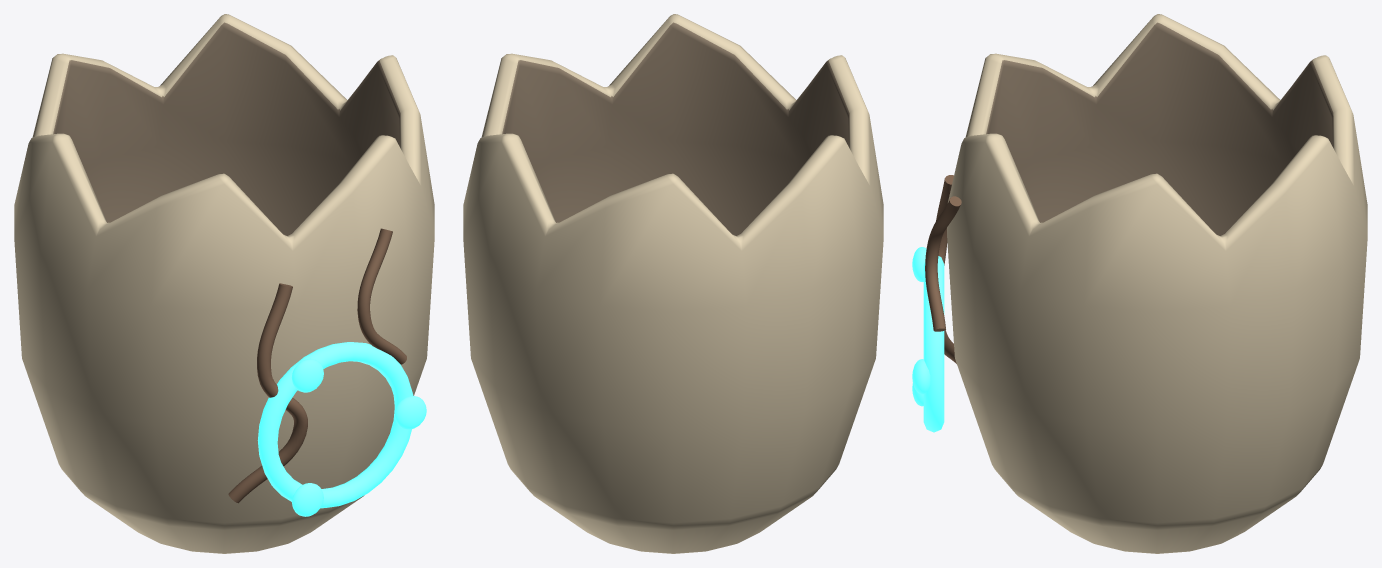
The model's file is ingredient-rune-shell.glb.
3 renders of one model, left to right at view 1: azimuth 30°, elevation 25°; view 2: azimuth 150°, elevation 25°; view 3: azimuth 270°, elevation 25°, orthographic.
Parts seen in each view (by area): view 1: Runeshell_body, Runeshell_rune_ring, Runeshell_crack_left, Runeshell_crack_right, Runeshell_rune_0, Runeshell_rune_1, Runeshell_rune_2; view 2: Runeshell_body; view 3: Runeshell_body, Runeshell_rune_ring, Runeshell_crack_right, Runeshell_crack_left.
Boxes of the visible parts, box(x1,y1,x2,y2) form: Runeshell_body: box(14, 14, 434, 553); Runeshell_rune_ring: box(257, 342, 413, 508); Runeshell_crack_left: box(228, 283, 307, 503); Runeshell_crack_right: box(357, 228, 406, 364); Runeshell_rune_0: box(394, 395, 426, 429); Runeshell_rune_1: box(291, 358, 323, 392); Runeshell_rune_2: box(292, 483, 323, 516); Runeshell_body: box(463, 14, 883, 553); Runeshell_body: box(947, 14, 1367, 553); Runeshell_rune_ring: box(923, 256, 944, 432); Runeshell_crack_right: box(925, 196, 961, 331); Runeshell_crack_left: box(936, 175, 956, 363).
Bounding box in the file's own units: 1.08 × 1.17 × 1.15.
